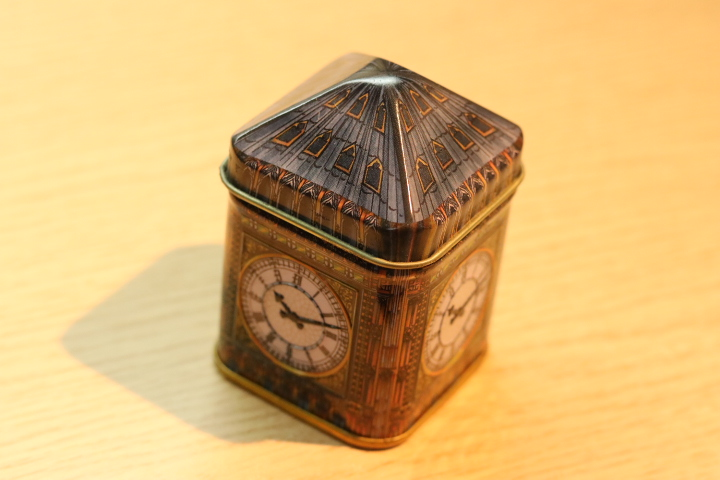Big Ben: (186, 36, 547, 469)
